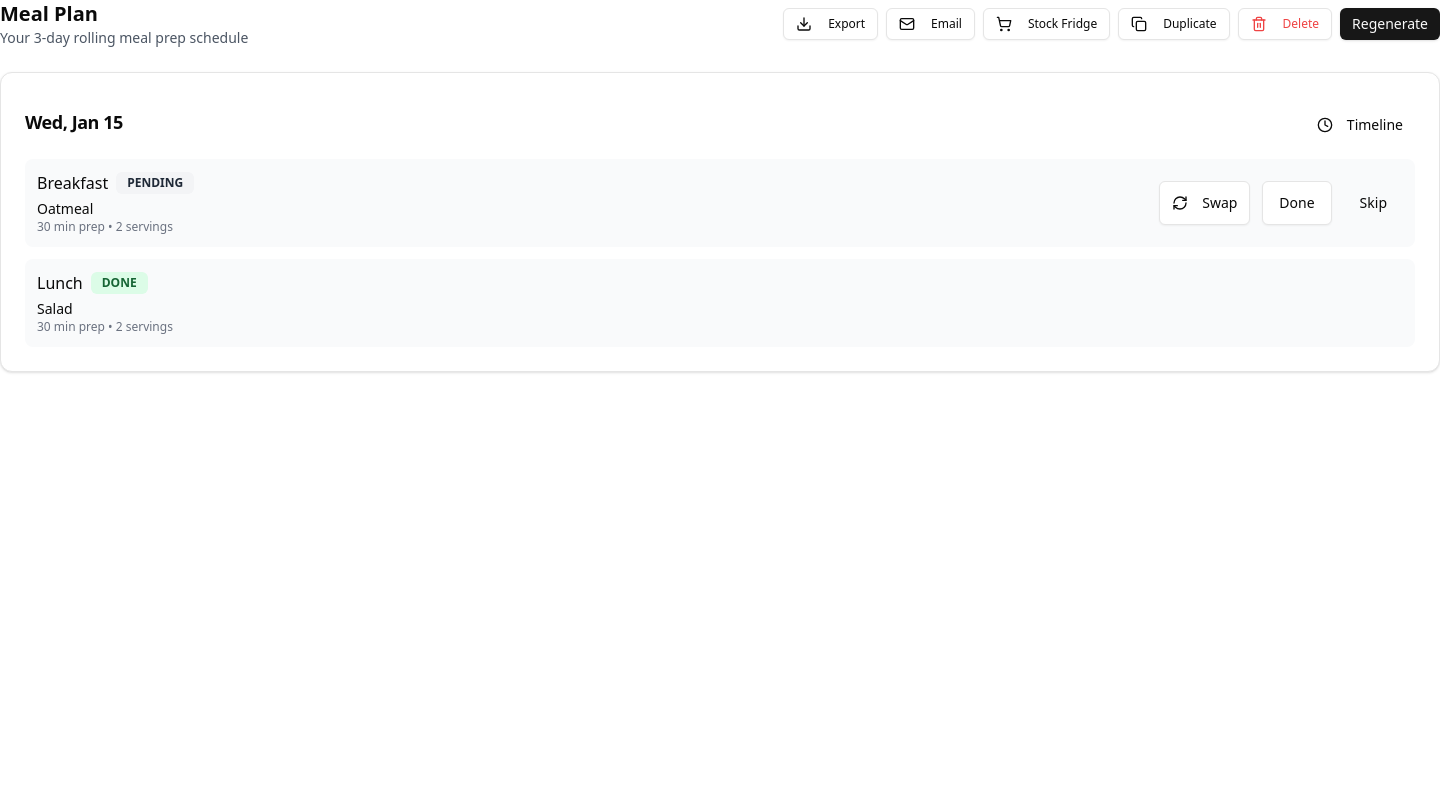
Test: PlanView › swap meal action › should disable swap button until a recipe is selected
Click the button with aria-label "swap breakfast recipe" at (1205, 203), box [1159,181,1250,225]
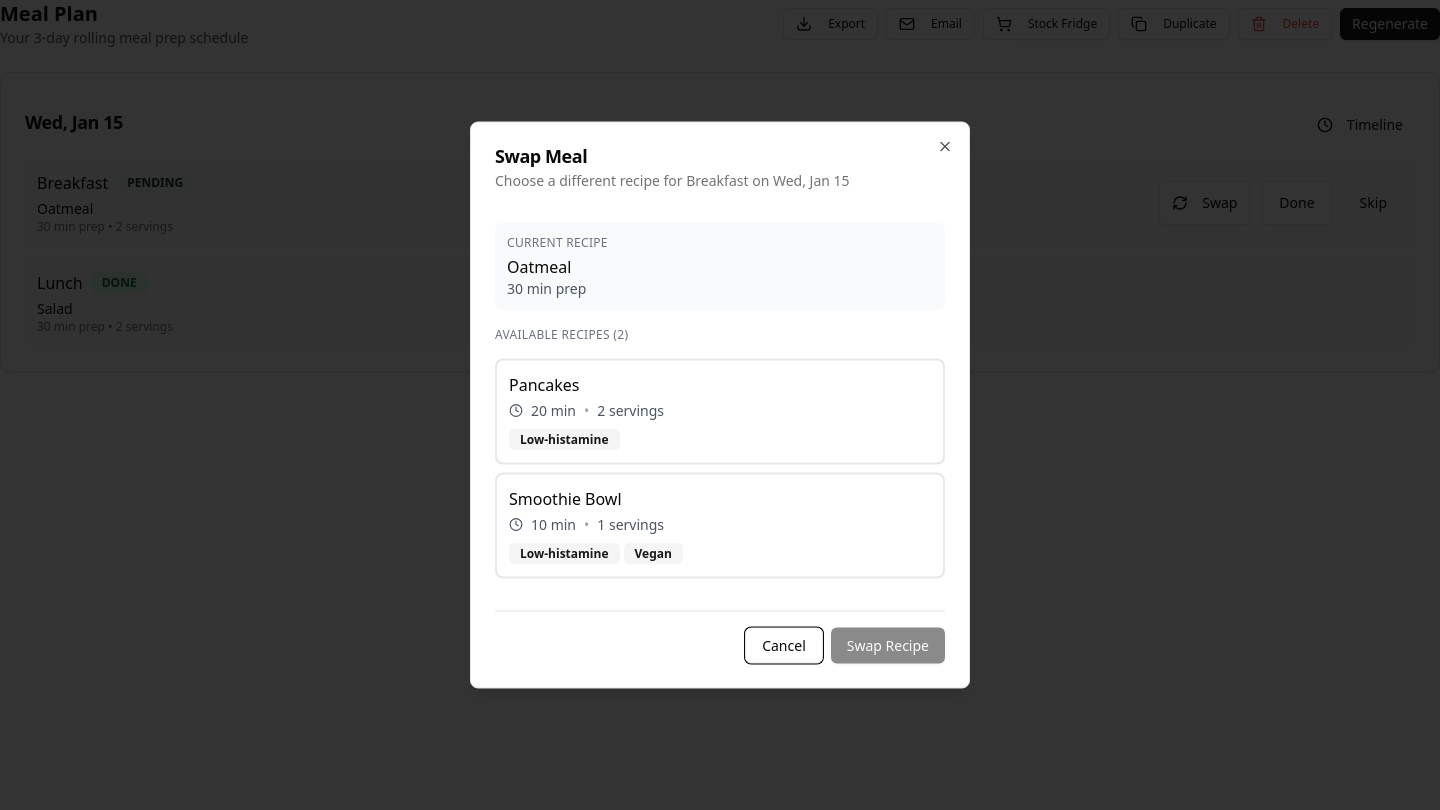
Result: the text "Pancakes" is shown
Result: the button "Swap Recipe" is disabled at [831,628,945,664]
Select a recipe
Click the text "Pancakes" at (544, 384), box [509,372,579,396]
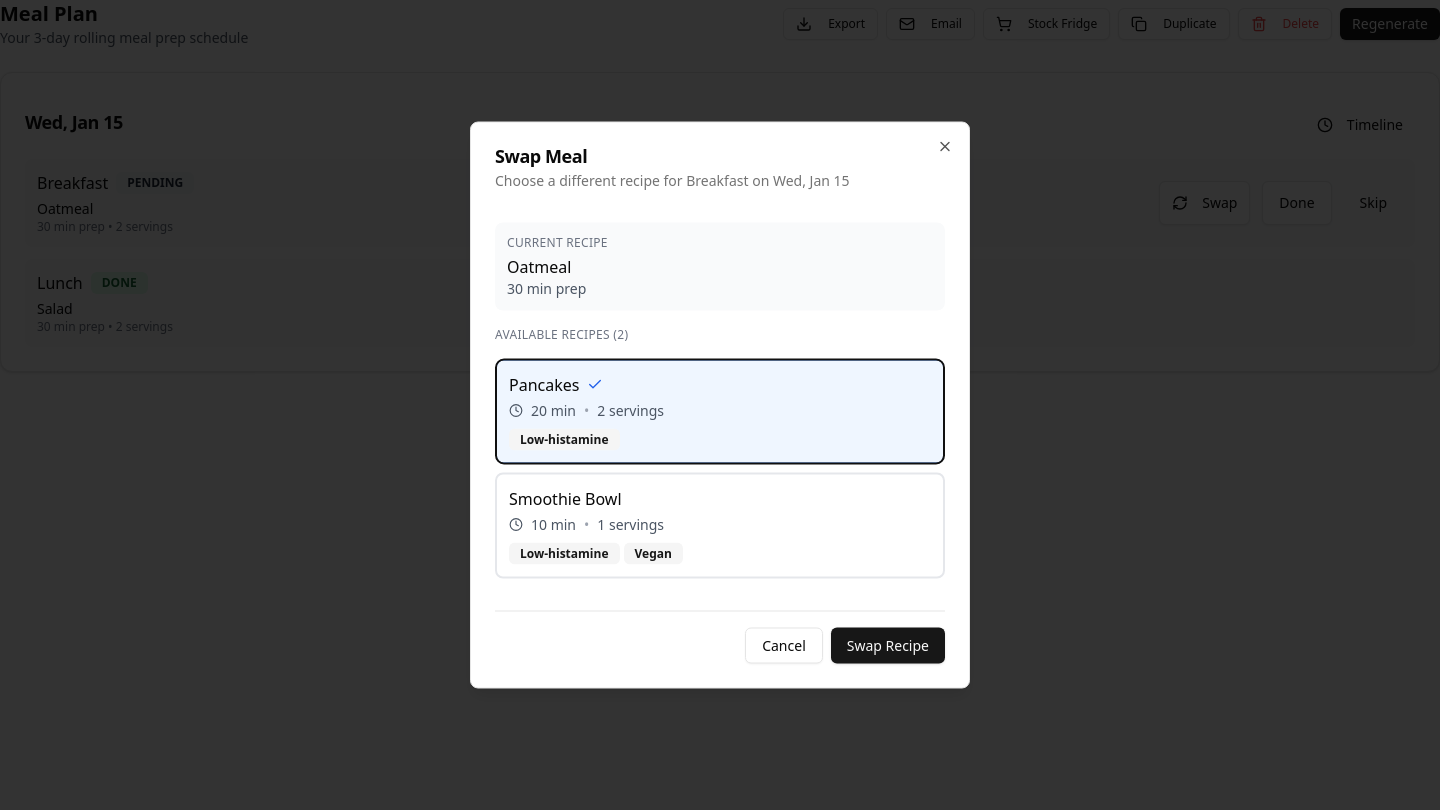
Result: the button "Swap Recipe" is enabled at [831,628,945,664]
